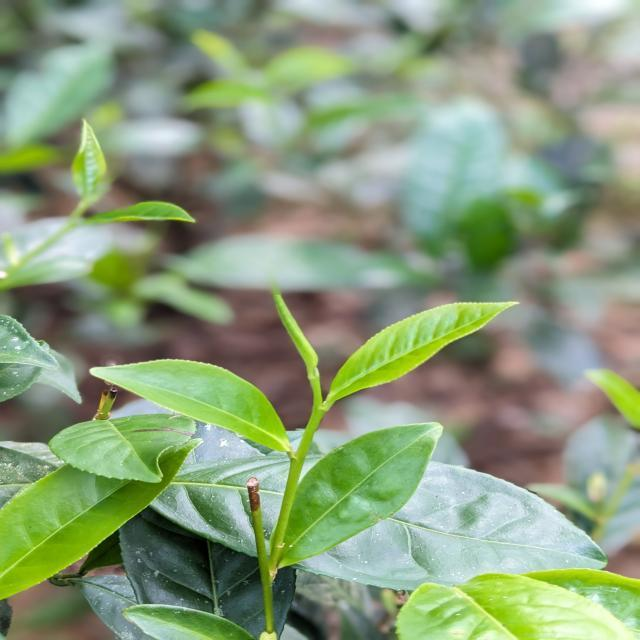Stem: (309, 407, 326, 425)
